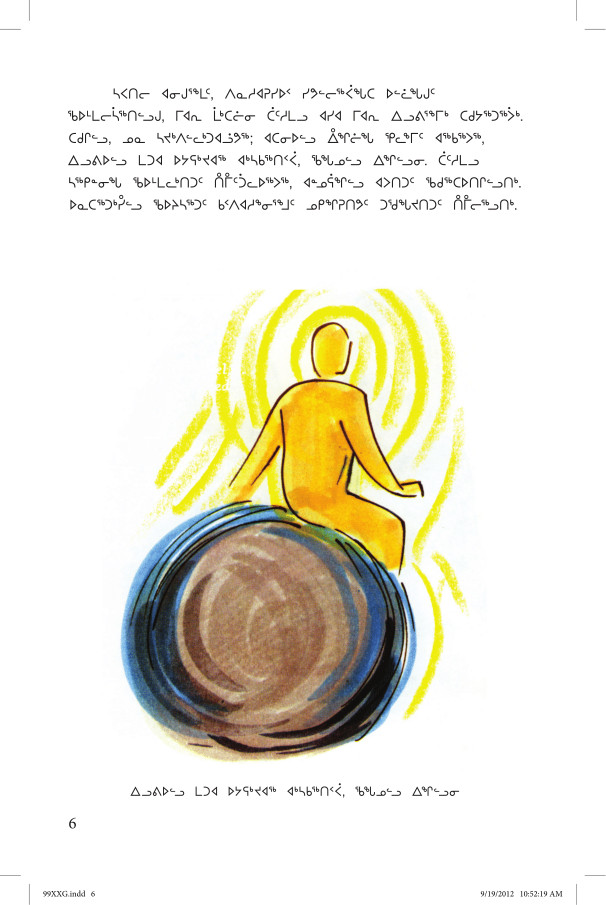inuktitut: (59, 77, 528, 219), (124, 777, 468, 802)
